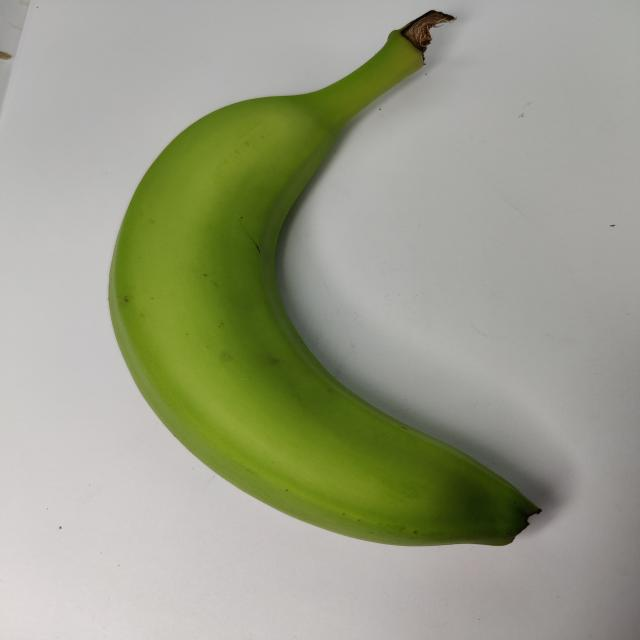raw: (70, 8, 559, 580)
